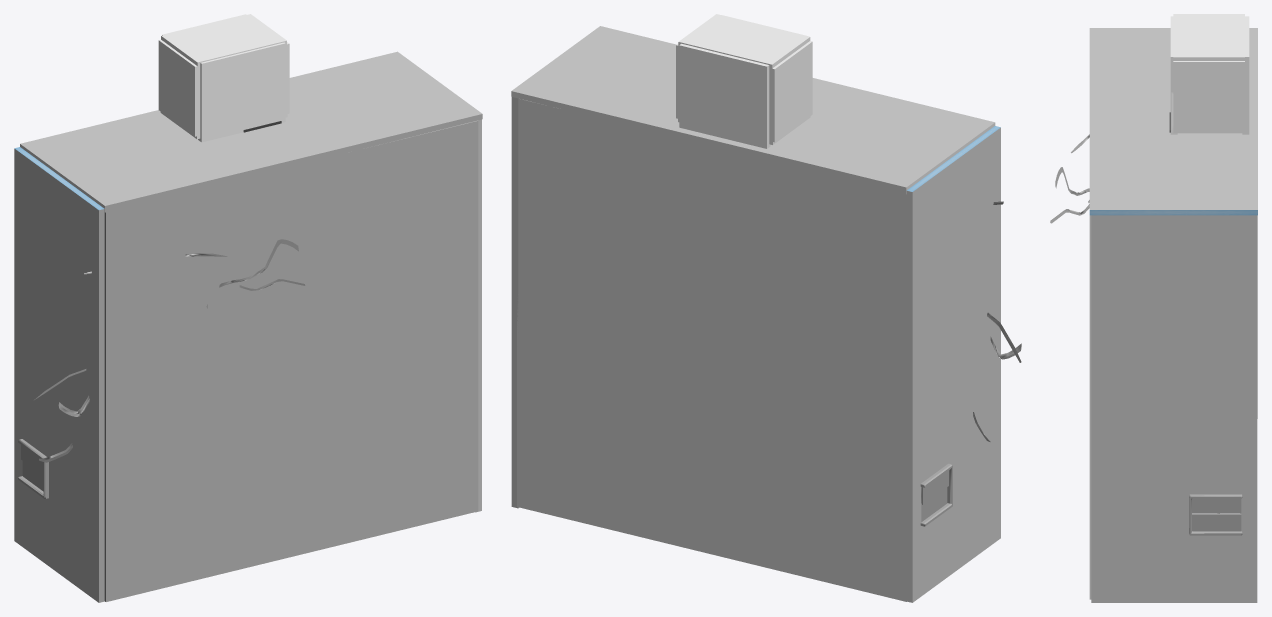
3 views of the same model, side by side, from view 1: azimuth 30°, elevation 25°; view 2: azimuth 150°, elevation 25°; view 3: azimuth 270°, elevation 25° (orthographic). The views are drawn at different scales.
Parts seen in each view (by area): view 1: UnCracked, Library__1_, Elevator__1_; view 2: Library__1_, Elevator__1_; view 3: Library__1_, Elevator__1_, UnCracked, exit_rightdoor_1, exit_leftdoor_1, exit_1_1.
Boxes of the visible parts, x1,y1,x2,y2 form: UnCracked: (104, 120, 478, 601); Library__1_: (14, 51, 482, 602); Elevator__1_: (158, 14, 289, 142); Library__1_: (511, 26, 1000, 602); Elevator__1_: (676, 14, 812, 148); Library__1_: (1089, 28, 1257, 602); Elevator__1_: (1170, 14, 1249, 134); UnCracked: (1089, 215, 1091, 599); exit_rightdoor_1: (1192, 514, 1241, 531); exit_leftdoor_1: (1192, 498, 1241, 513); exit_1_1: (1189, 494, 1242, 535).
Bounding box in the file's own units: 6968 × 7393 × 2949.
